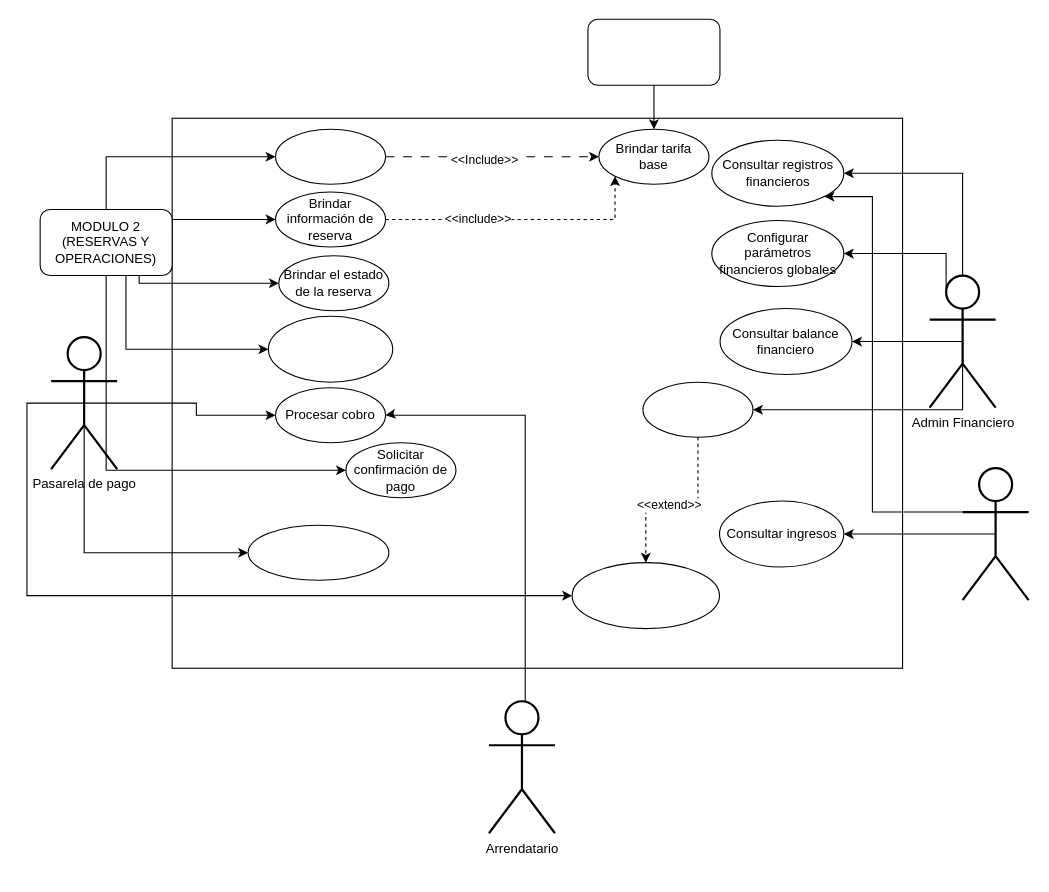
Image size: 1049x892. Some labels were removed from this diagram. The centre of each missing label's shape, as x and y in pixels:
liquidar fondos de alquiler: point 318,552
MODULO 1: point 653,51
Propietario: point 995,533
Reembolsar dinero a arrendatario: point 645,595
Resolver disputa de garantía: point 697,409
Solicitar el valor calculado de la reserva: point 330,348
Solicitar estimación para reserva: point 330,156
